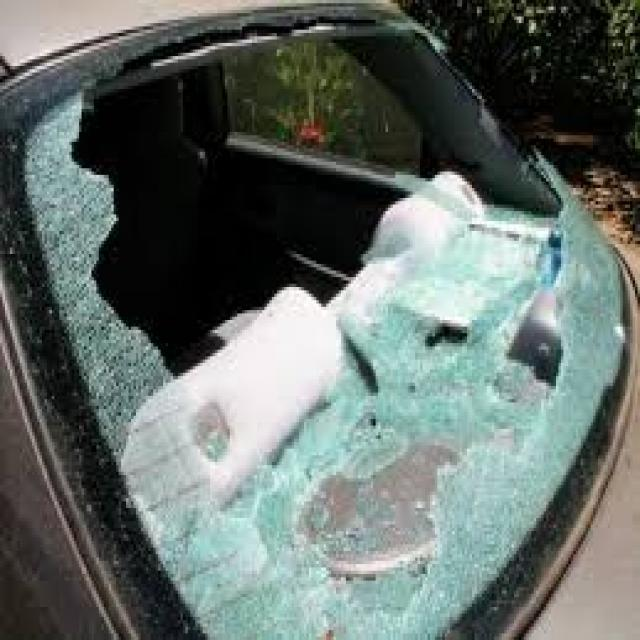damaged-rear-window: (2, 6, 640, 636)
